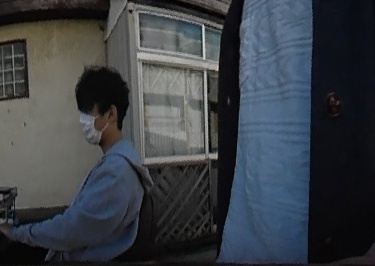person: (29, 63, 145, 266)
